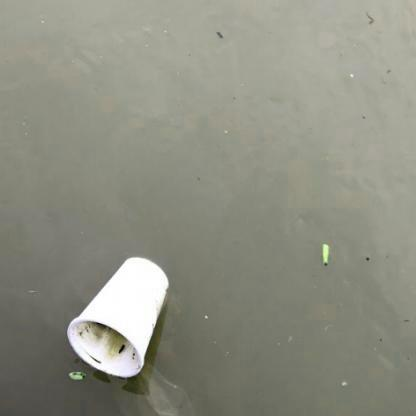Plastic: (67, 253, 173, 382)
